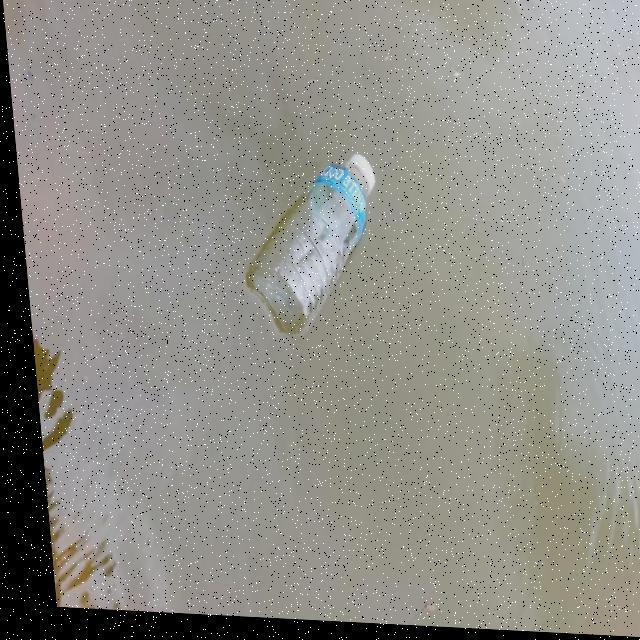Bottle: (236, 144, 386, 342)
